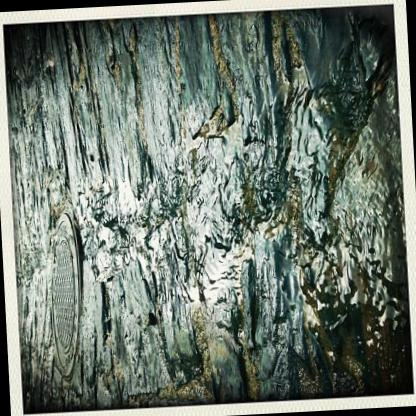manholes: (32, 195, 104, 382)
